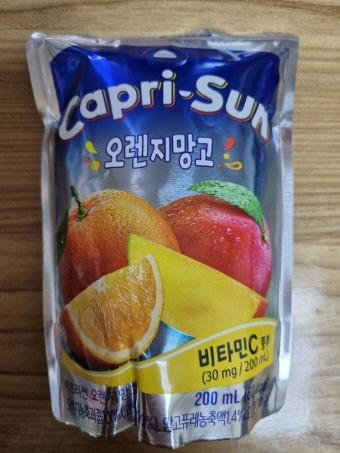cafrisun: (20, 14, 309, 451)
